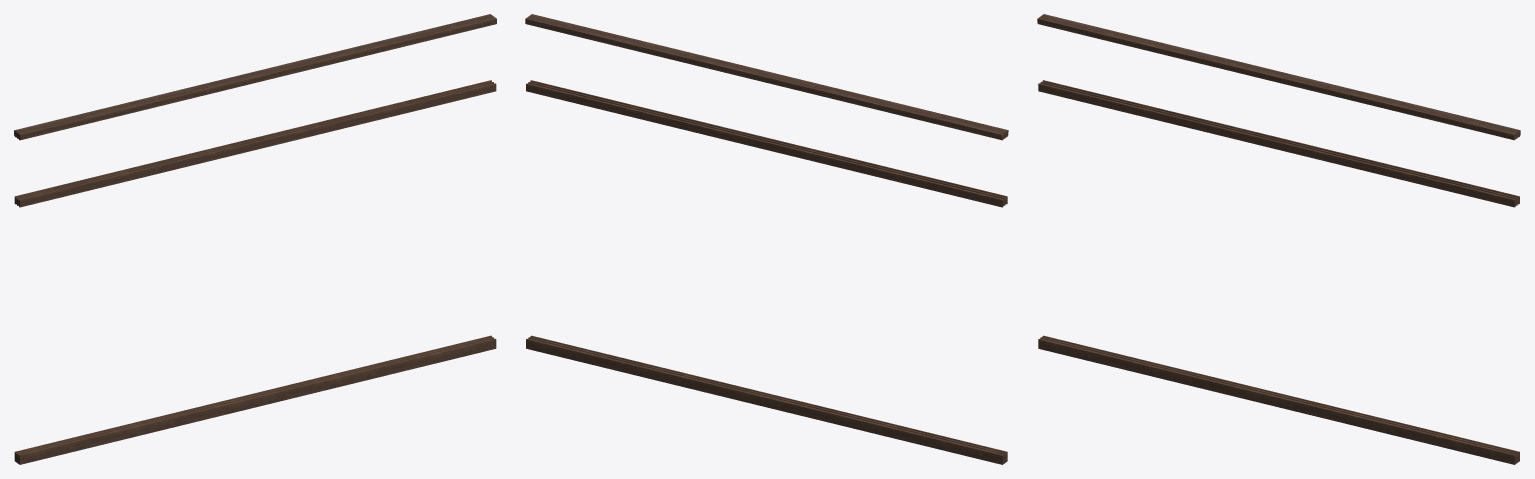
Rendered from jov_outwall01_2t_to_e2.fbx.
3 views of the same model, side by side, from view 1: azimuth 30°, elevation 25°; view 2: azimuth 150°, elevation 25°; view 3: azimuth 330°, elevation 25° (orthographic).
Parts seen in each view (by area): view 1: jov_outwall01_2t_to_e2; view 2: jov_outwall01_2t_to_e2; view 3: jov_outwall01_2t_to_e2.
Boxes of the visible parts, bbox=[...] form: jov_outwall01_2t_to_e2: bbox=[14, 14, 496, 464]; jov_outwall01_2t_to_e2: bbox=[525, 14, 1008, 464]; jov_outwall01_2t_to_e2: bbox=[1037, 14, 1520, 464].
Size of the model in its own units: 440 by 292 by 10.57.
